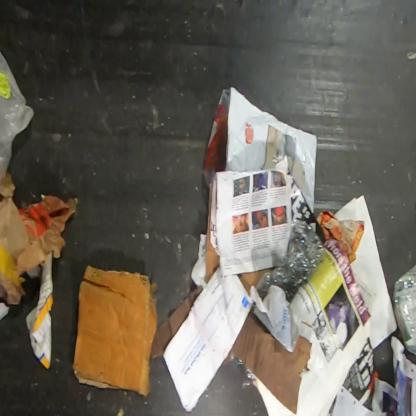cardboard: (73, 265, 158, 397), (223, 310, 312, 414), (152, 286, 204, 358), (205, 184, 220, 283), (240, 269, 270, 297)
soft_plastic: (255, 218, 325, 307), (0, 51, 34, 179), (393, 264, 415, 357)
